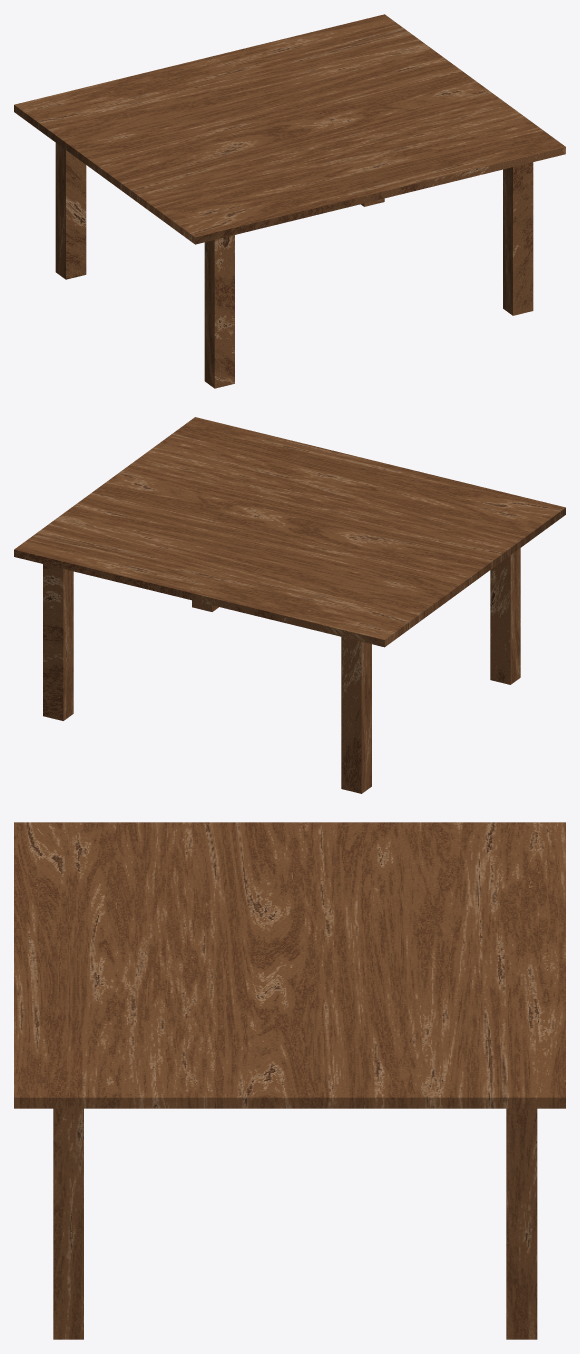
File: Wood Table.fbx
The picture shows the model from 3 angles, top to bottom: view 1: azimuth 30°, elevation 25°; view 2: azimuth 150°, elevation 25°; view 3: azimuth 270°, elevation 25°; orthographic projection. The views are drawn at different scales.
Parts seen in each view (by area): view 1: Cube; view 2: Cube; view 3: Cube.
Boxes of the visible parts, <box> form: Cube: <box>14,14,565,388</box>; Cube: <box>14,417,565,793</box>; Cube: <box>14,822,565,1339</box>.
Size of the model in its own units: 870 by 378 by 737.
Materials: 1 (1 with a texture image).
